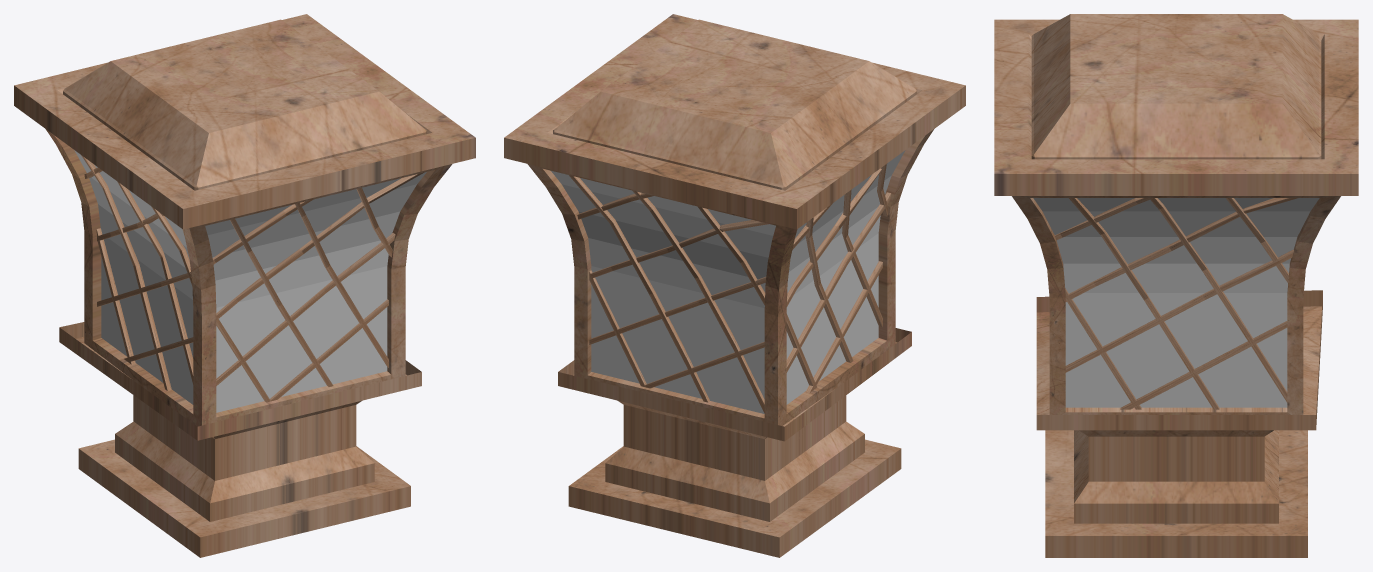
Rendered from lamp.obj.
3 renders of one model, left to right at view 1: azimuth 30°, elevation 25°; view 2: azimuth 150°, elevation 25°; view 3: azimuth 270°, elevation 25°, orthographic. The views are drawn at different scales.
Parts seen in each view (by area): view 1: Cube.004_Cube.005; view 2: Cube.004_Cube.005; view 3: Cube.004_Cube.005.
Boxes of the visible parts, x1,y1,x2,y2 form: Cube.004_Cube.005: (14,14,475,557); Cube.004_Cube.005: (504,14,965,557); Cube.004_Cube.005: (994,14,1358,557).
Bounding box in the file's own units: 2.51 × 3.37 × 2.51.
